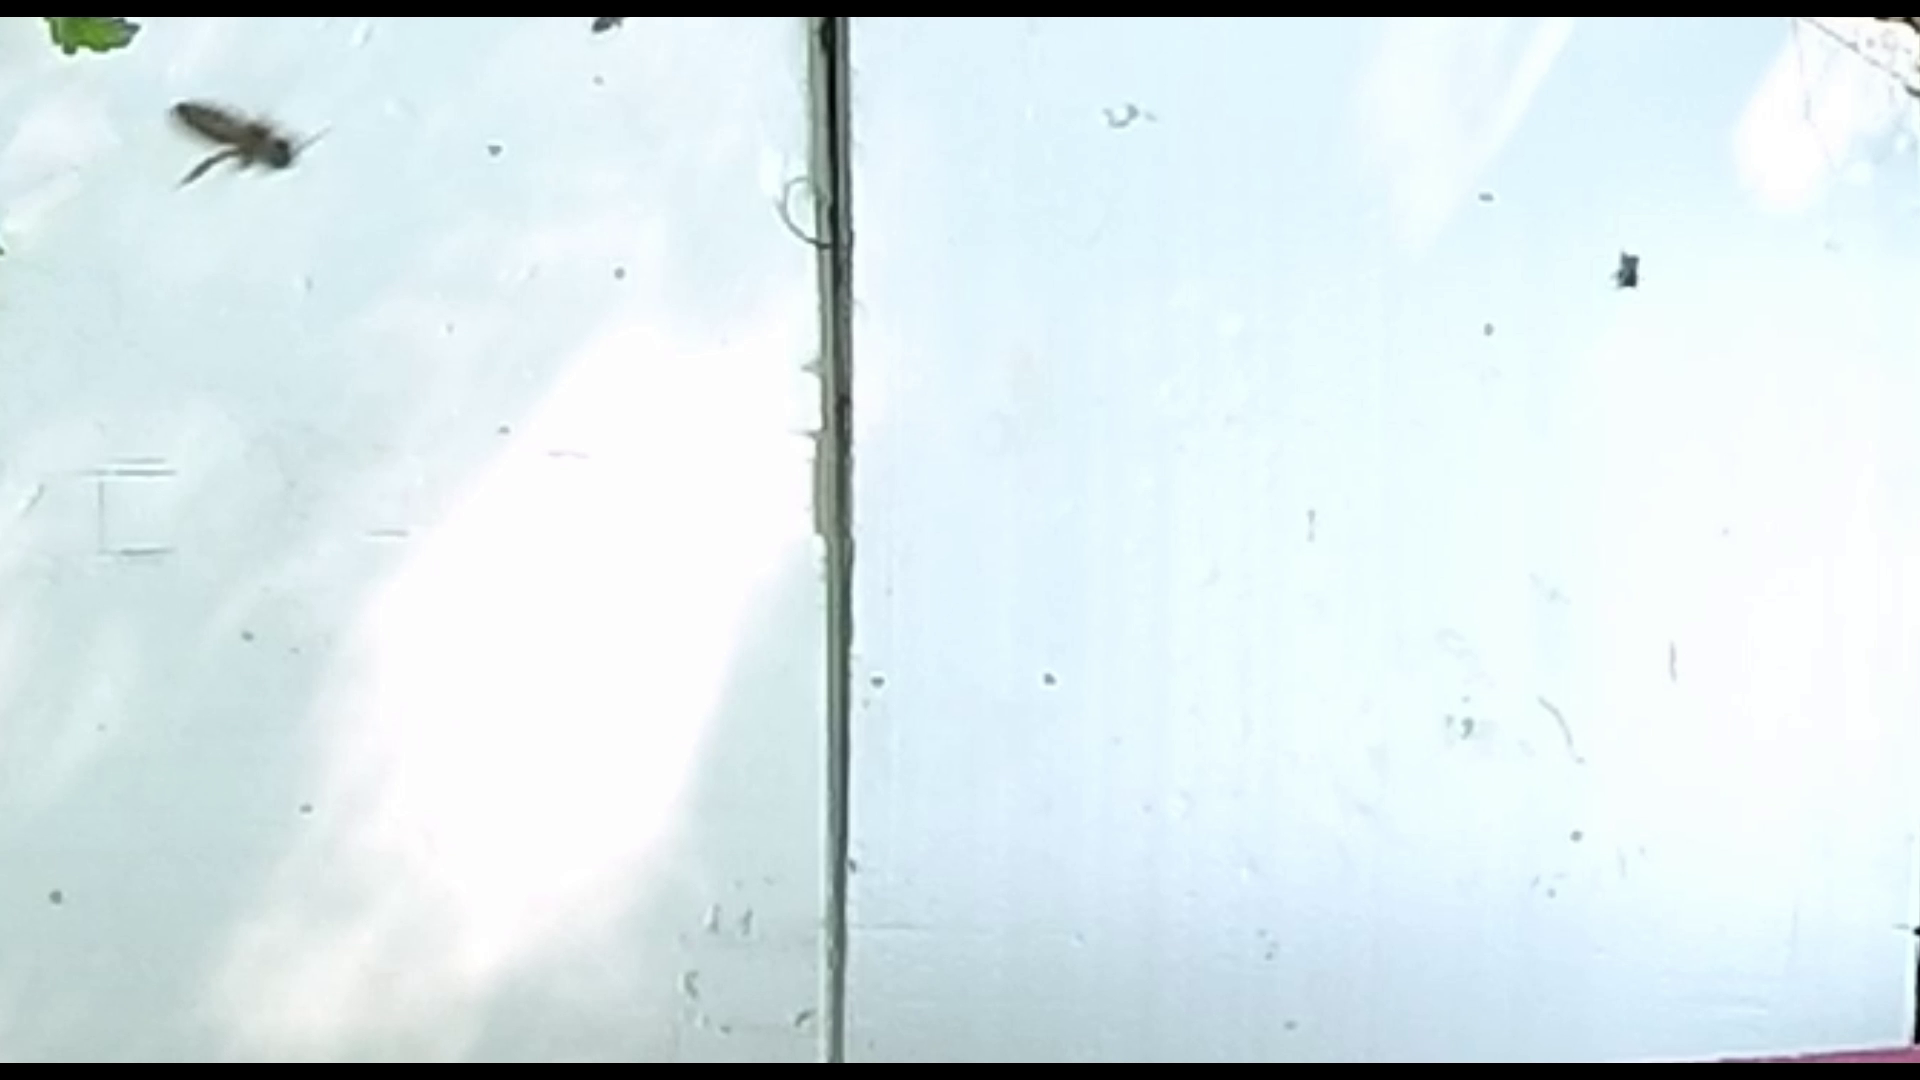Asian_hornets: (144, 79, 345, 202)
